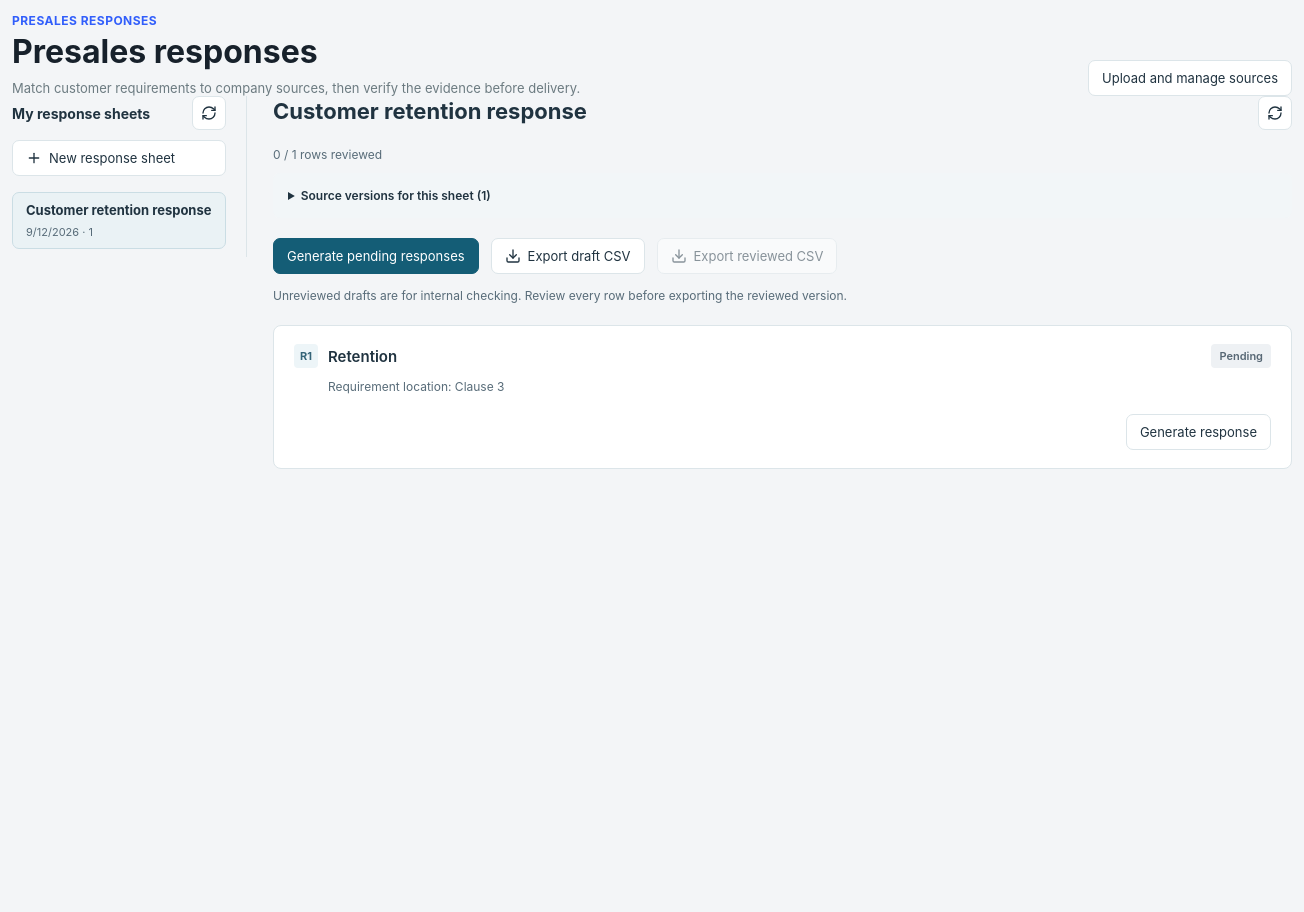
Test: PresalesWorkspace HTTP boundary › reuses a key after a lost response and requires an explicit new retry after a saved failure
The image size is (1304, 912).
Click the button "Generate response" at (1198, 432), box [1126,414,1271,450]
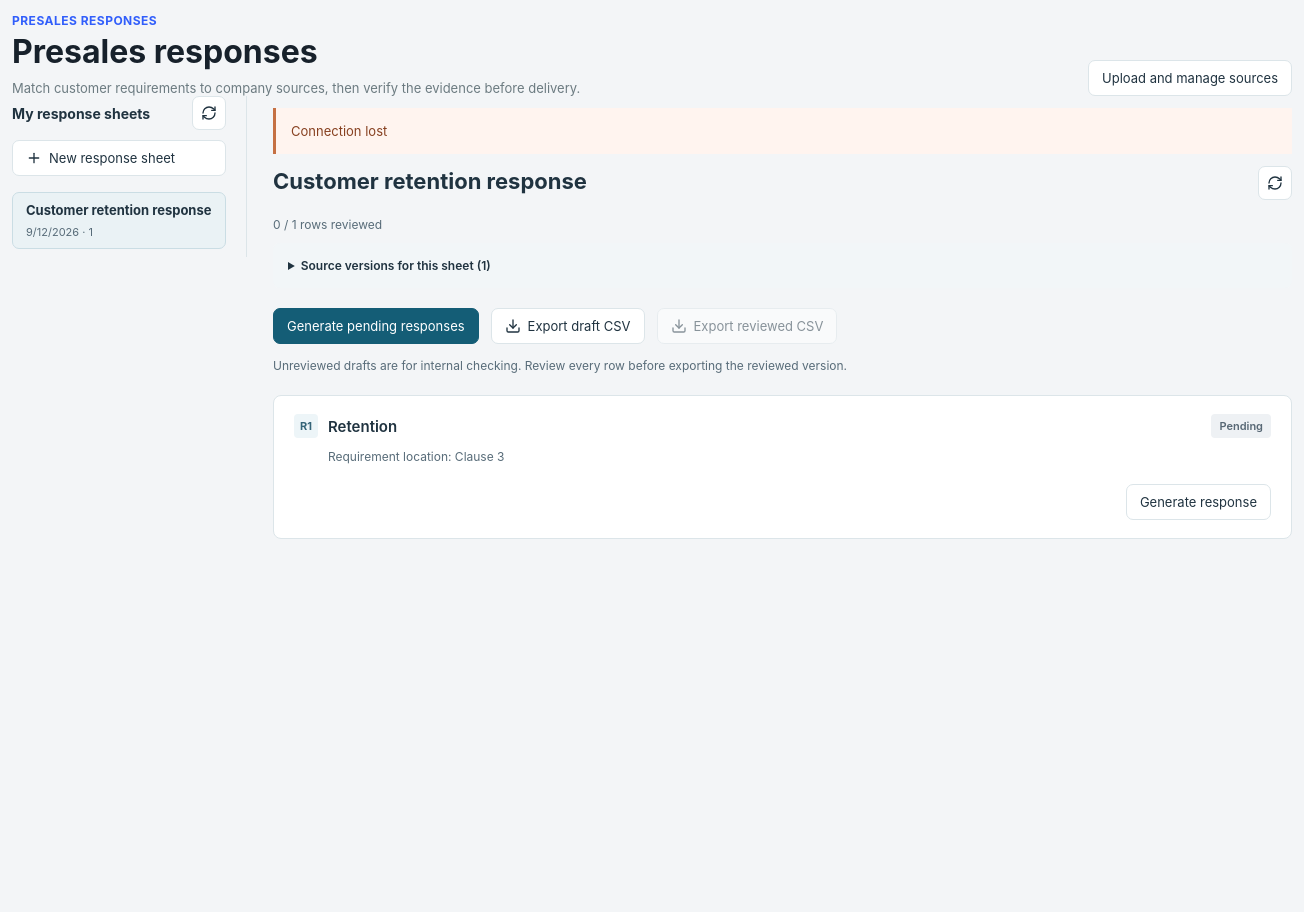
Result: the text "Connection lost" is shown at [273,108,1292,154]
Click the button "Generate response" at (1198, 502), box [1126,484,1271,520]
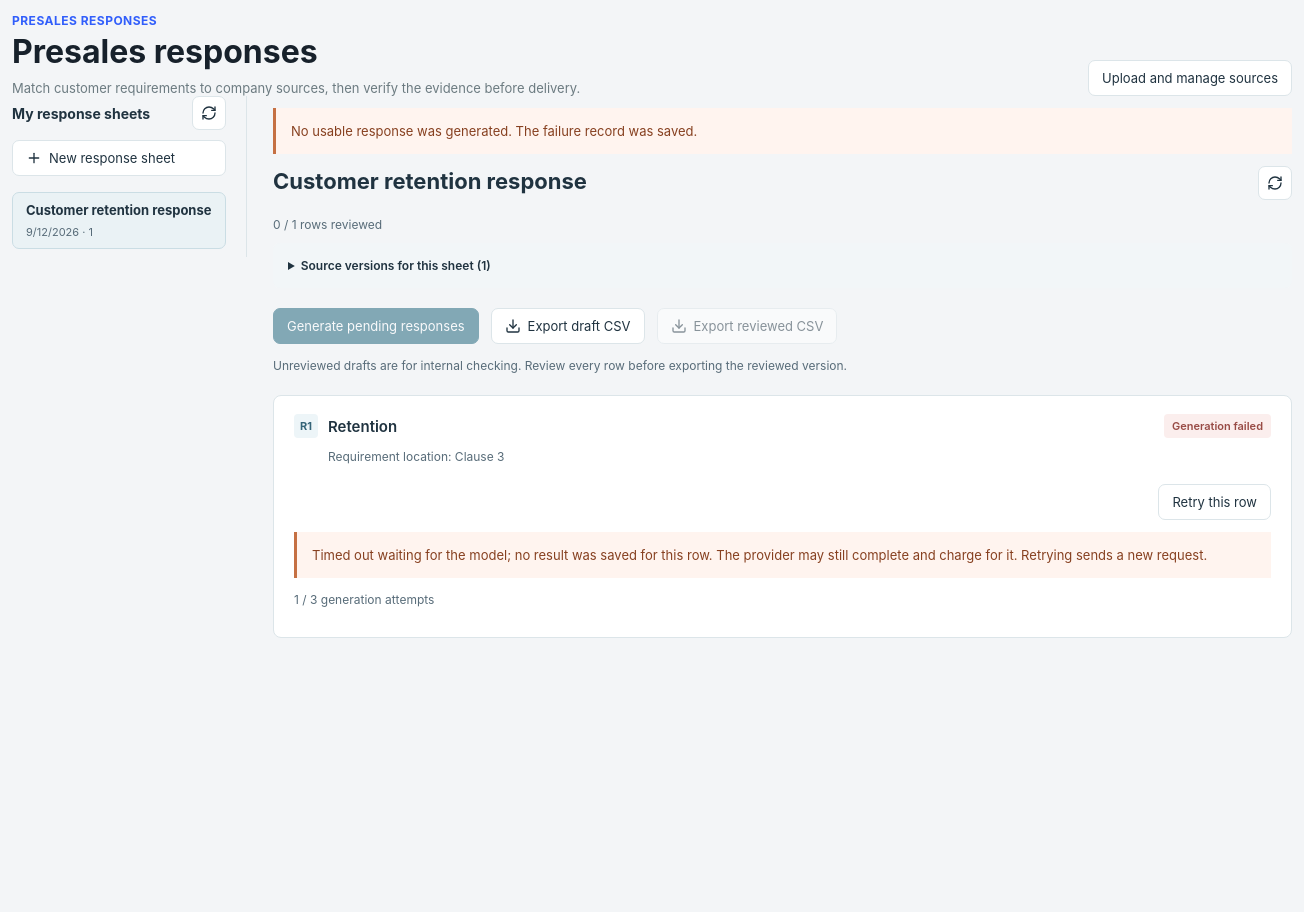
Result: the text "provider may still complete and charge" is shown at [312,547,1207,563]
Click the button "Retry this row" at (1215, 502), box [1158,484,1271,520]
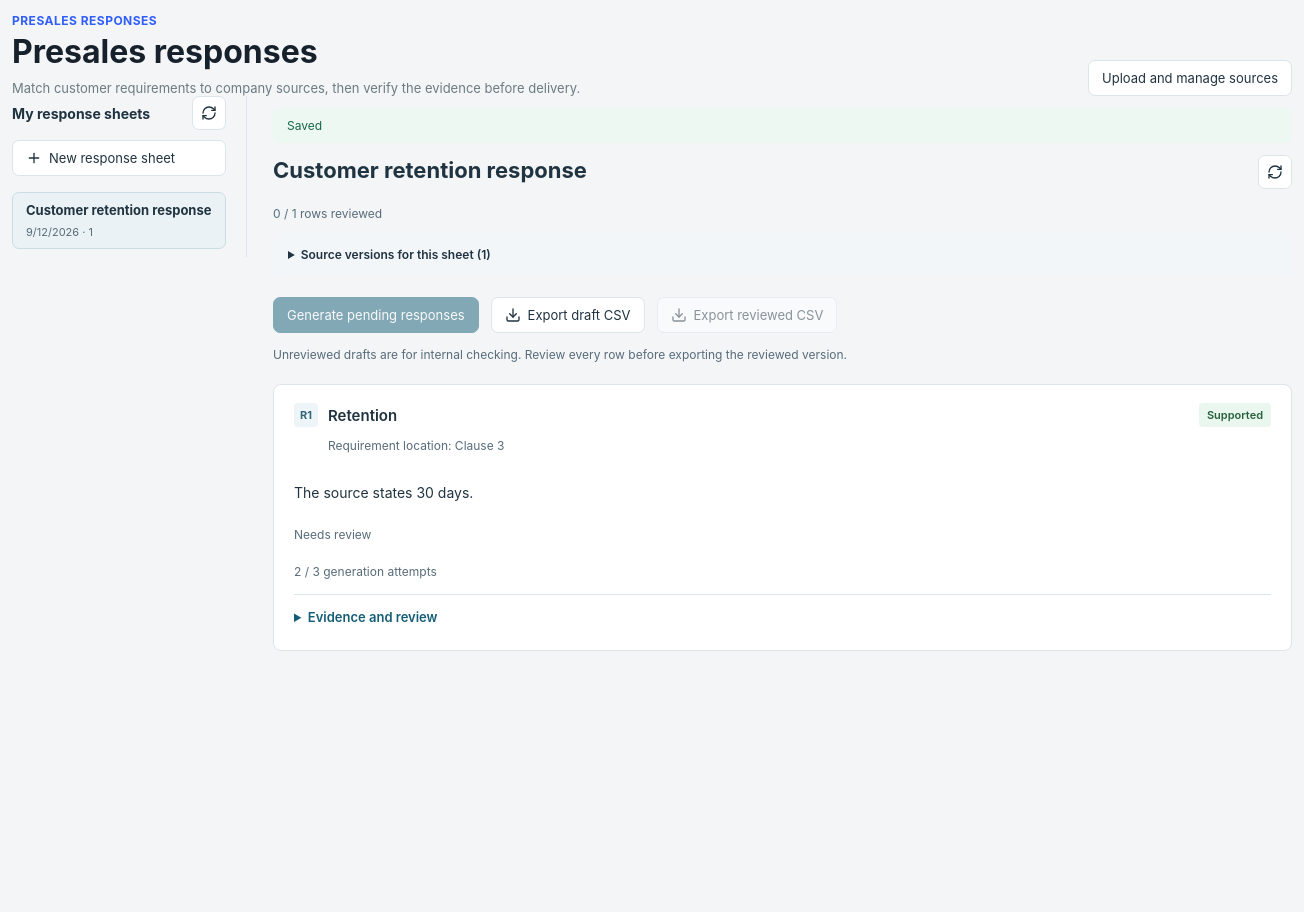
Expected: the button "Export reviewed CSV" is disabled, [656,297,837,333]
Result: the text "The source states 30 days." is shown at [294,484,473,501]
